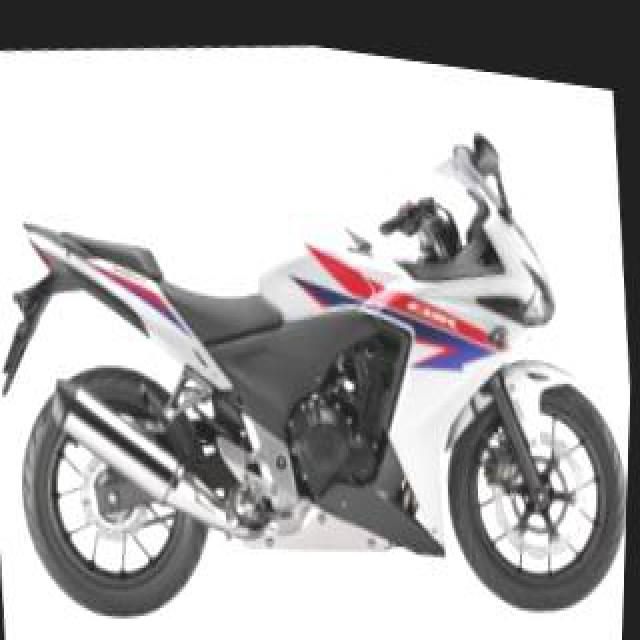CBR500R: (0, 51, 638, 637)
